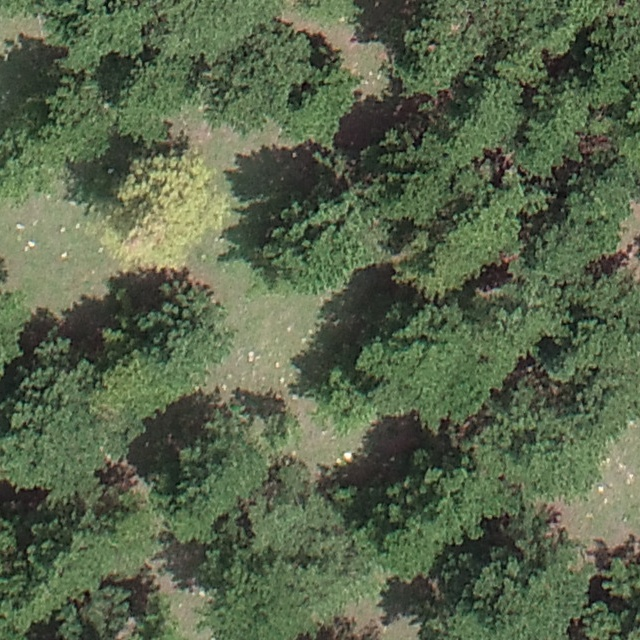unhealthy: (96, 152, 223, 269)
